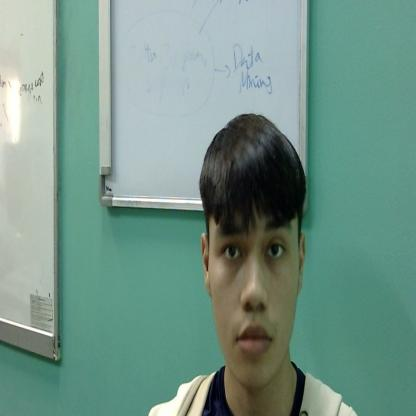Open-Eyes: (211, 212, 294, 274)
